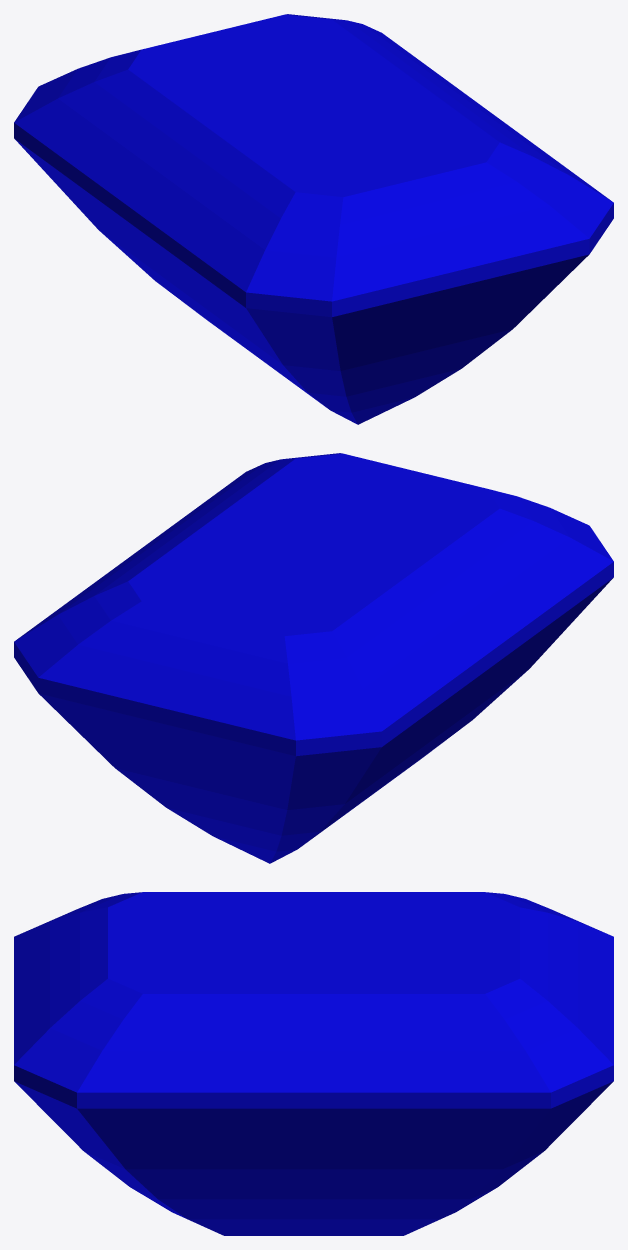
File: Head_Hidden Halo_Emerald_1.0ct_Diamond.glb
3 renders of one model, top to bottom at view 1: azimuth 30°, elevation 25°; view 2: azimuth 150°, elevation 25°; view 3: azimuth 270°, elevation 25°, orthographic. The views are drawn at different scales.
Bounding box in the file's own units: 0.00505 × 0.00376 × 0.00698.
